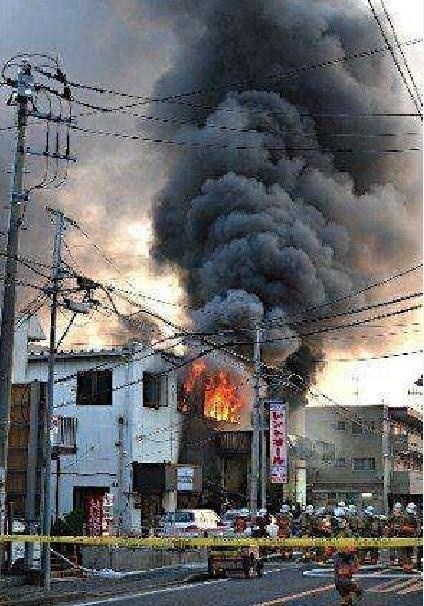fire: (182, 363, 242, 422)
